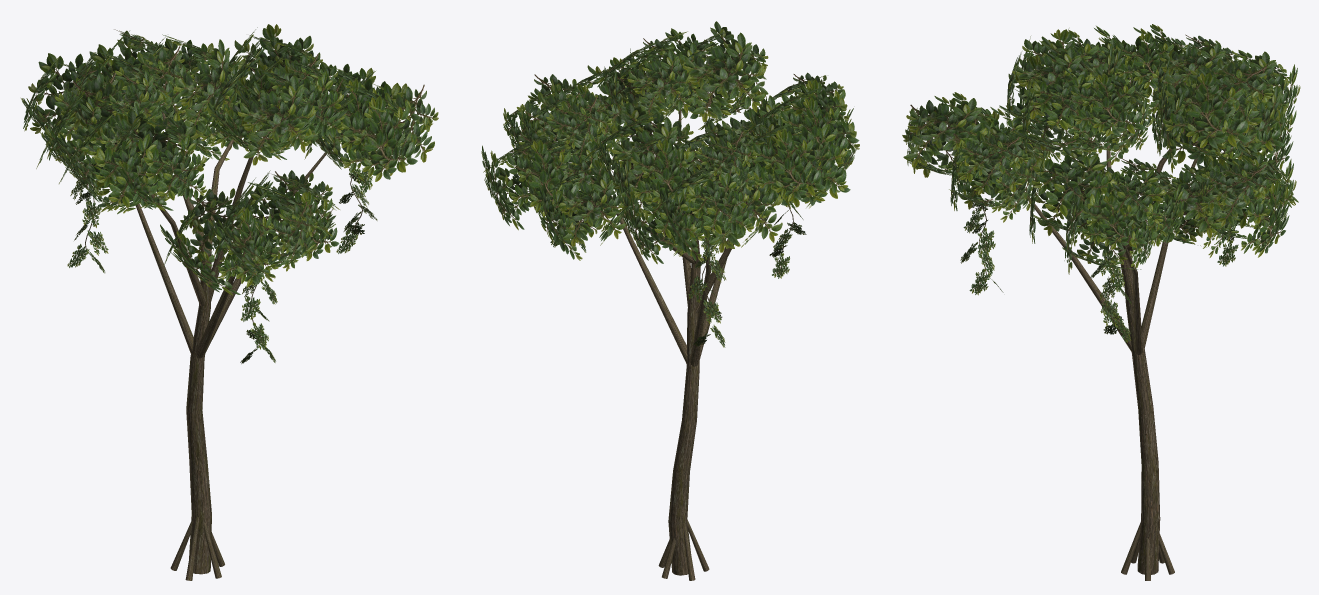
File: background_tree_01.glb
The picture shows the model from 3 angles, left to right: view 1: azimuth 30°, elevation 25°; view 2: azimuth 150°, elevation 25°; view 3: azimuth 270°, elevation 25°; orthographic projection. The views are drawn at different scales.
Parts seen in each view (by area): view 1: background_tree_01; view 2: background_tree_01; view 3: background_tree_01.
Part boxes in pixels (left/top/right/bottom): background_tree_01: left=21, top=24, right=438, bottom=580; background_tree_01: left=481, top=21, right=859, bottom=580; background_tree_01: left=902, top=24, right=1300, bottom=580.
Bounding box in the file's own units: 9.02 × 12.32 × 8.57.
Materials: 2 (2 with a texture image).
